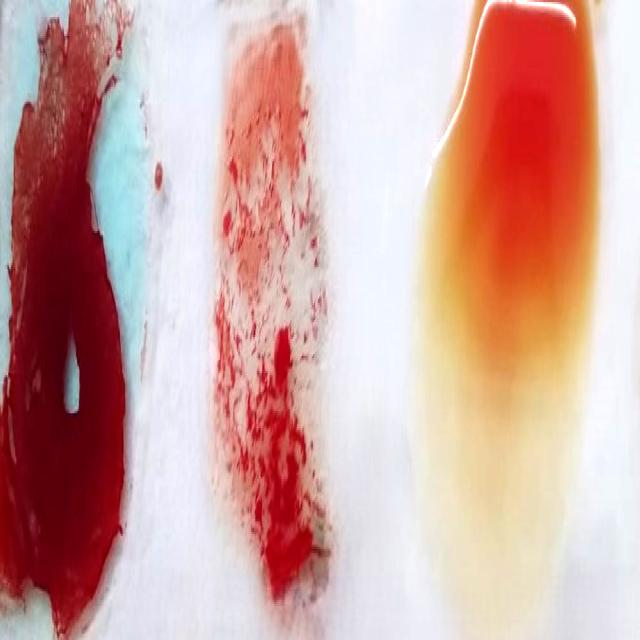A: (0, 13, 147, 636)
D: (214, 21, 337, 634)
